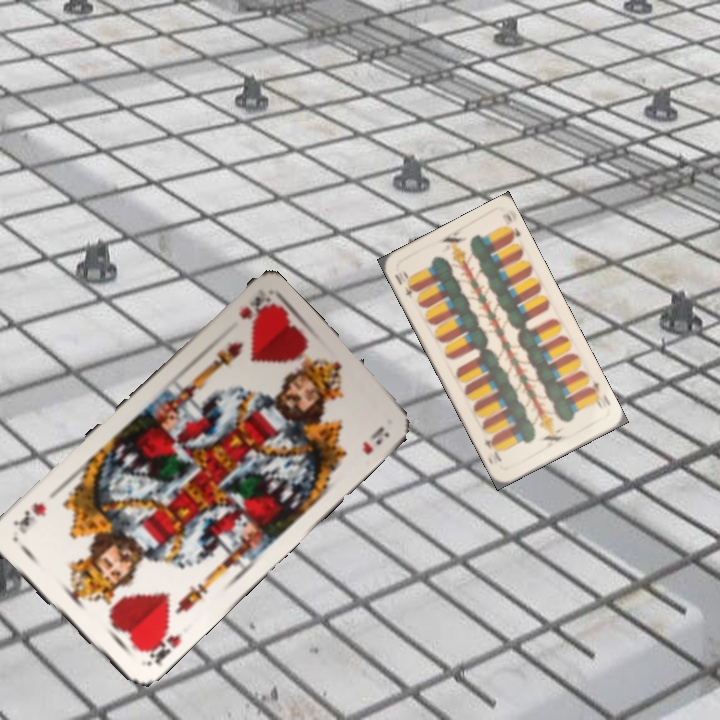E10: (583, 377, 614, 412), (399, 267, 419, 301)
HK: (137, 622, 184, 669), (234, 291, 268, 322)
